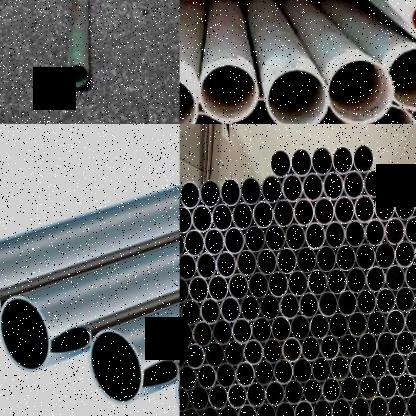pipe: (329, 60, 394, 124), (89, 329, 142, 404), (0, 294, 50, 373), (201, 64, 259, 124), (267, 68, 328, 124), (389, 48, 416, 111), (232, 99, 290, 124), (293, 107, 355, 124), (359, 106, 416, 124), (311, 145, 333, 175), (302, 171, 324, 201), (240, 175, 262, 205), (264, 223, 286, 252), (354, 194, 376, 223), (276, 246, 298, 275), (236, 248, 258, 277), (394, 239, 416, 268), (364, 168, 385, 198), (384, 166, 405, 196), (353, 143, 374, 173), (270, 148, 291, 178), (332, 144, 353, 174), (375, 192, 396, 222), (291, 147, 312, 177), (314, 196, 335, 225), (245, 224, 266, 253), (282, 173, 303, 202), (334, 195, 355, 224), (323, 171, 344, 200), (273, 198, 294, 227), (385, 216, 406, 245), (325, 220, 346, 249), (395, 191, 416, 220), (220, 177, 241, 206), (232, 201, 253, 230), (285, 222, 306, 251), (196, 252, 218, 279), (240, 294, 261, 322), (345, 219, 366, 247), (365, 218, 386, 246), (200, 179, 221, 207), (253, 200, 274, 228), (192, 204, 213, 232), (216, 250, 237, 278), (224, 226, 245, 254), (204, 227, 225, 255), (212, 203, 233, 231), (180, 180, 200, 209), (376, 240, 396, 269), (262, 174, 282, 203), (344, 170, 364, 199), (336, 243, 356, 272), (316, 244, 336, 273), (294, 197, 314, 226), (306, 221, 326, 250), (184, 228, 204, 257), (296, 245, 316, 274), (204, 341, 226, 367), (268, 270, 289, 297), (249, 271, 270, 298), (220, 296, 241, 323), (228, 273, 249, 300), (208, 274, 229, 301), (193, 320, 214, 347), (212, 318, 233, 345), (396, 285, 416, 313), (346, 266, 366, 294), (189, 275, 209, 303), (308, 268, 328, 296), (181, 298, 201, 326), (66, 64, 88, 89), (224, 340, 245, 366), (200, 298, 221, 324), (396, 329, 416, 356), (386, 264, 406, 291), (327, 267, 347, 294), (376, 287, 396, 314), (356, 288, 376, 315), (257, 248, 277, 275), (366, 265, 386, 292), (299, 291, 319, 318), (252, 316, 272, 343), (274, 358, 294, 385), (280, 292, 300, 319), (186, 342, 206, 369), (260, 293, 280, 320), (272, 315, 292, 342), (330, 354, 350, 381), (263, 337, 283, 364), (356, 243, 376, 270), (288, 269, 308, 296), (348, 311, 368, 337), (367, 310, 387, 336), (232, 318, 252, 344), (310, 313, 330, 339), (358, 332, 378, 358), (216, 362, 236, 388), (301, 335, 321, 361), (320, 334, 340, 360), (303, 378, 323, 404), (190, 385, 210, 411), (387, 351, 406, 378), (338, 289, 357, 316), (282, 336, 301, 363), (350, 353, 369, 380), (312, 356, 331, 383), (323, 376, 342, 403), (368, 352, 387, 379), (319, 290, 338, 317), (293, 357, 312, 384), (236, 360, 255, 387), (360, 374, 379, 401), (228, 382, 247, 409), (341, 375, 360, 402), (209, 383, 228, 410), (255, 359, 274, 386), (247, 381, 266, 408), (396, 373, 416, 398), (284, 379, 304, 404), (377, 331, 396, 357), (386, 309, 405, 335), (378, 373, 397, 399), (291, 314, 310, 340), (244, 339, 263, 365), (340, 333, 359, 359), (197, 364, 217, 388), (330, 312, 348, 338), (266, 380, 284, 406), (180, 252, 196, 280), (368, 395, 388, 416), (180, 364, 196, 390), (388, 394, 406, 416), (351, 396, 370, 416), (332, 397, 351, 416), (180, 321, 193, 348), (404, 165, 416, 194), (404, 214, 416, 243), (313, 398, 332, 416), (180, 205, 192, 233), (295, 399, 314, 416), (275, 400, 295, 416), (405, 261, 416, 289), (256, 401, 276, 416), (405, 307, 416, 333), (405, 350, 416, 376), (218, 403, 238, 416), (238, 403, 258, 416), (180, 276, 189, 303), (406, 393, 416, 416), (180, 386, 189, 410), (200, 405, 219, 416), (180, 406, 200, 416), (180, 344, 186, 368), (180, 229, 185, 257), (414, 285, 416, 311), (415, 189, 416, 219), (415, 237, 416, 266), (415, 328, 416, 354), (415, 372, 416, 397)
